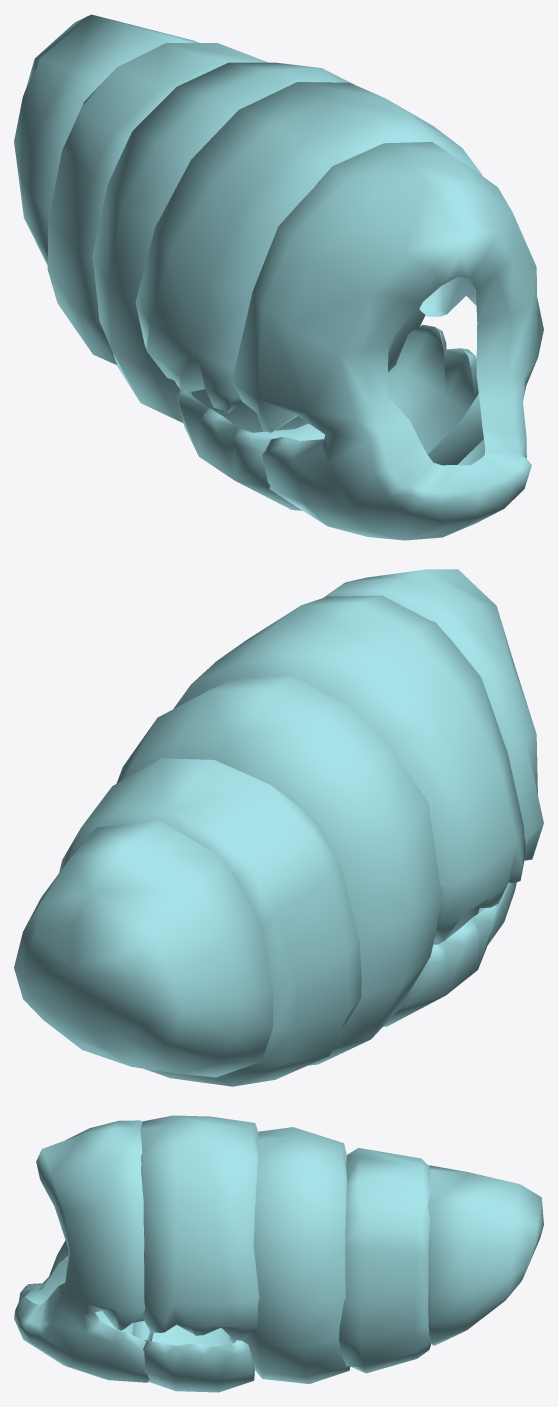
The model's file is Shrimp_Body_Caridid.fbx.
The picture shows the model from 3 angles, top to bottom: view 1: azimuth 30°, elevation 25°; view 2: azimuth 150°, elevation 25°; view 3: azimuth 270°, elevation 25°; orthographic projection. The views are drawn at different scales.
Parts seen in each view (by area): view 1: Back_1_low, Back_2_low, back_3_low.001, back_4_low.001, back_5_low.001; view 2: back_5_low.001, Back_2_low, back_3_low.001, back_4_low.001, Back_1_low; view 3: Back_2_low, Back_1_low, back_3_low.001, back_4_low.001, back_5_low.001.
Part boxes in pixels (<box>): Back_1_low: <box>232,142,543,540</box>; Back_2_low: <box>135,82,483,510</box>; back_3_low.001: <box>92,62,425,432</box>; back_4_low.001: <box>47,43,268,364</box>; back_5_low.001: <box>14,14,199,264</box>; back_5_low.001: <box>14,820,272,1077</box>; Back_2_low: <box>173,595,525,1026</box>; back_3_low.001: <box>116,676,442,1065</box>; back_4_low.001: <box>59,758,361,1086</box>; Back_1_low: <box>323,569,543,944</box>; Back_2_low: <box>132,1115,259,1392</box>; Back_1_low: <box>14,1120,153,1382</box>; back_3_low.001: <box>229,1127,350,1383</box>; back_4_low.001: <box>339,1148,430,1373</box>; back_5_low.001: <box>428,1165,543,1345</box>.
Size of the model in its own units: 38.22 by 43.24 by 81.09.
